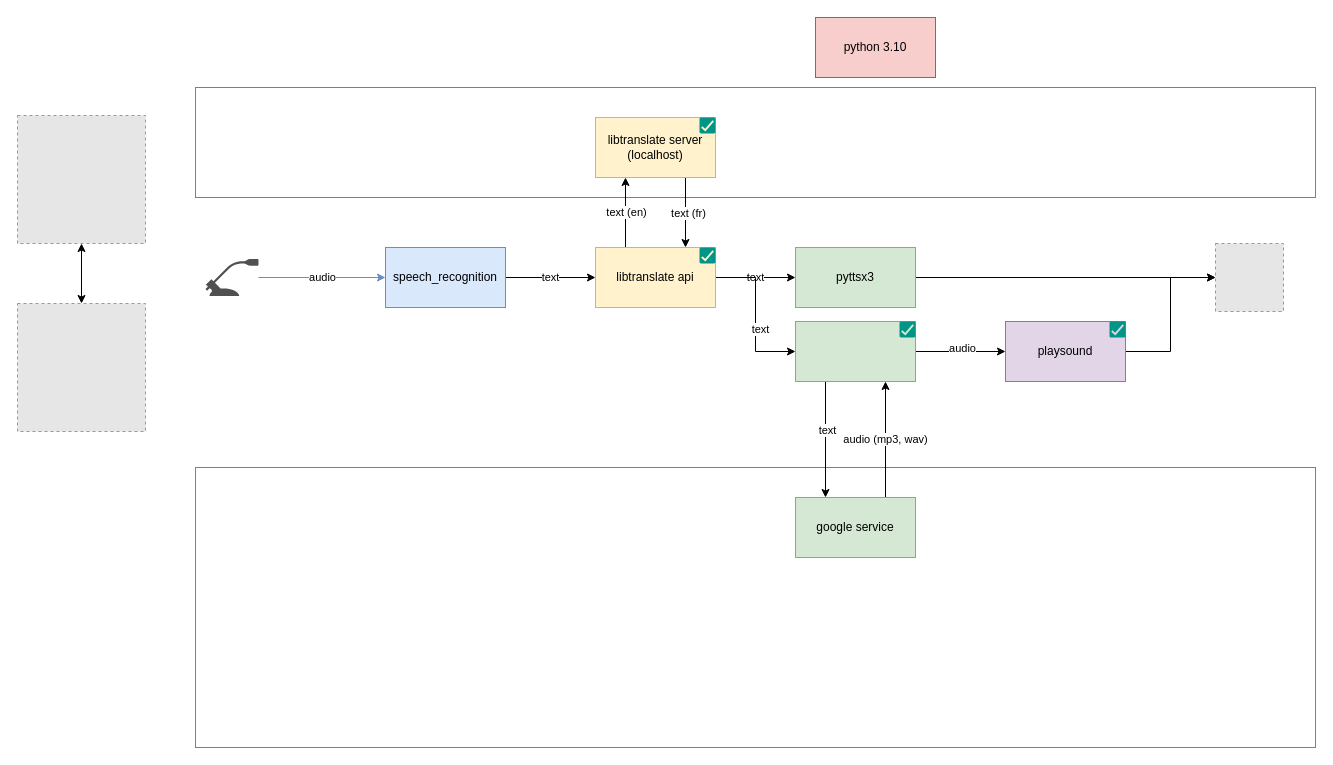
Some shapes in this 1333 by 765 pixel diagram are drawn without their labels. Grey dashed boxes stand in for pictures. The shapes that lost their labels are listed below. From the top down, each one's box as (x1, y1, x2, y2) in pixels, then its label:
(194, 86, 1316, 198): Docker
(794, 320, 916, 382): gTTS
(194, 466, 1316, 748): Outside
